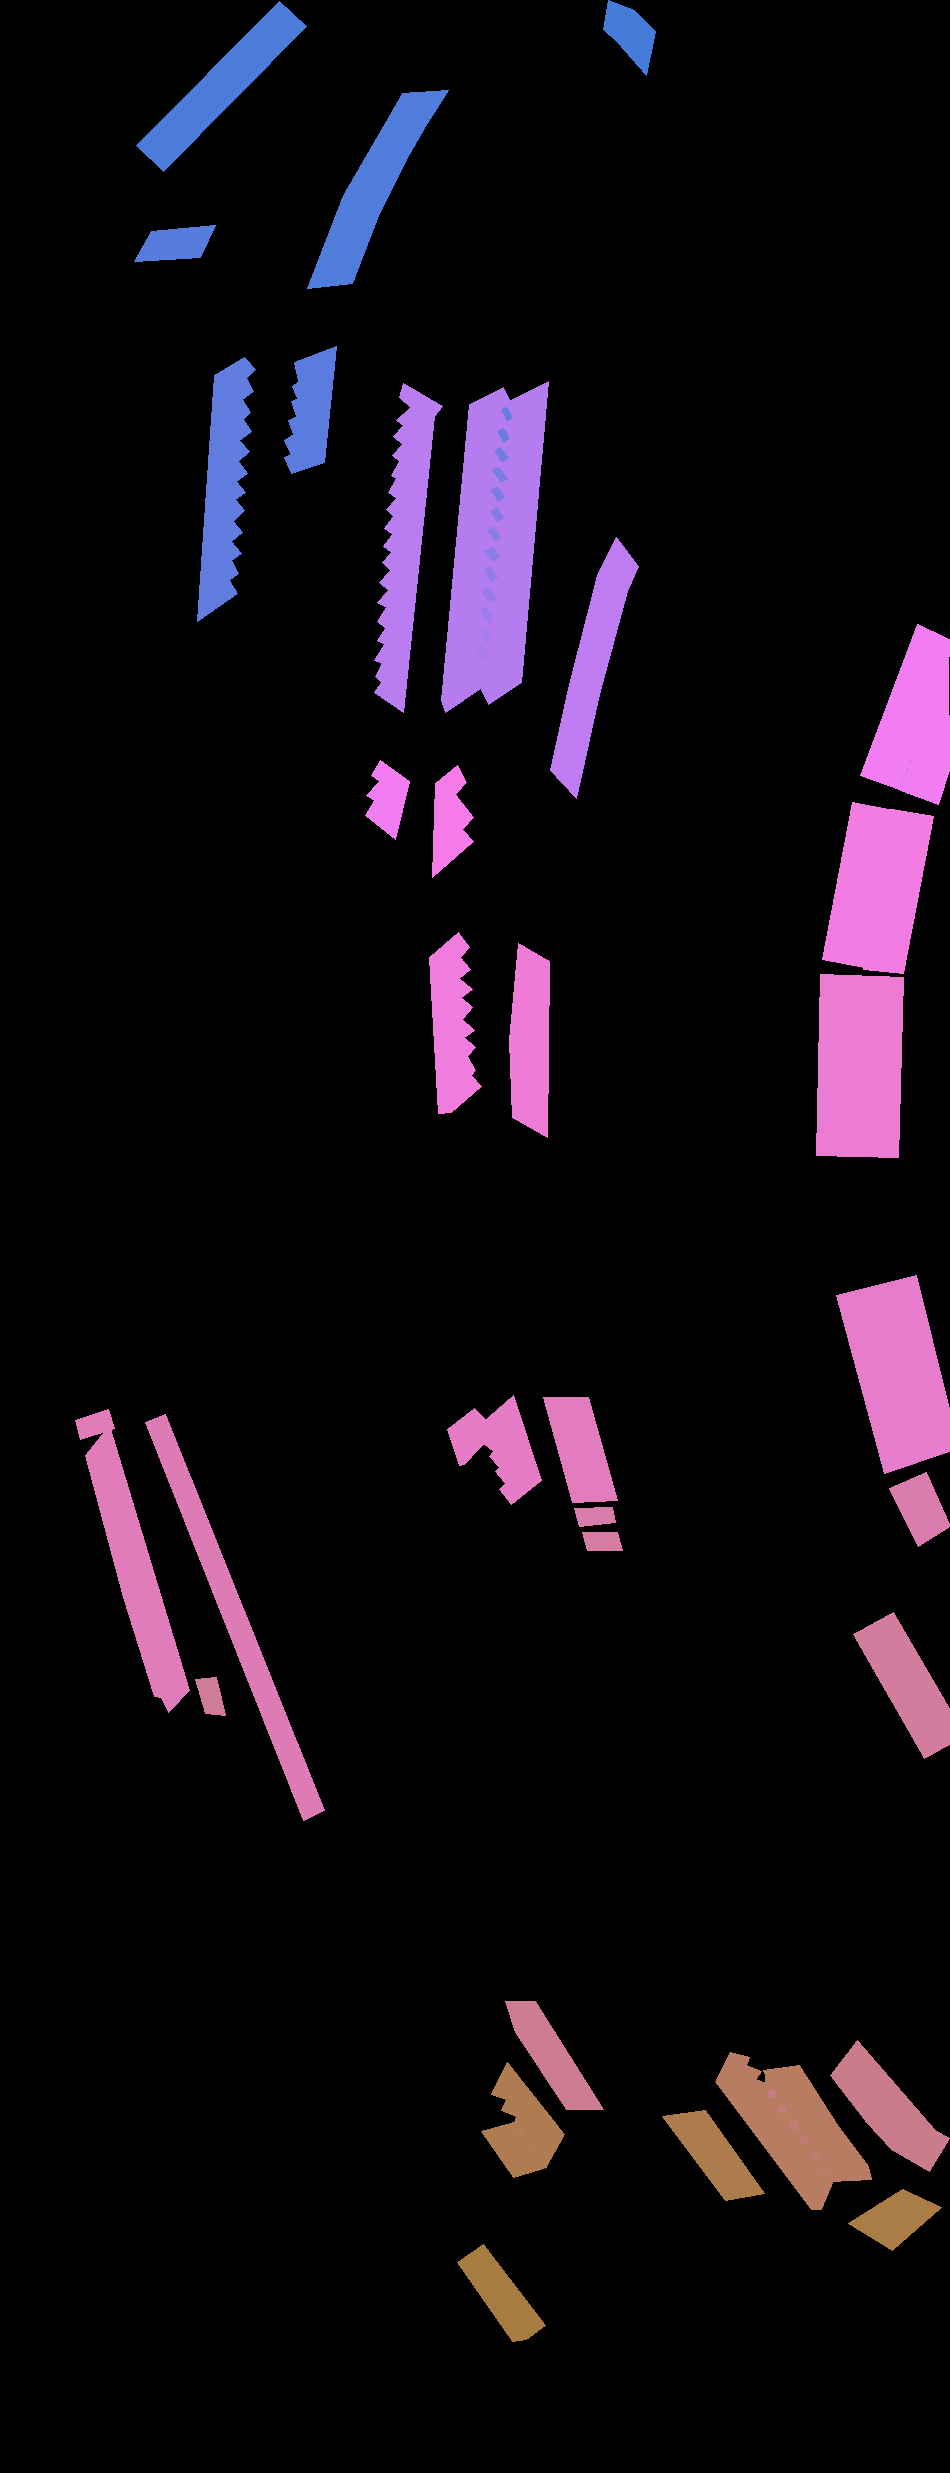parkingspot: (145, 1413, 324, 1820), (85, 1424, 189, 1711), (136, 2, 306, 170), (308, 90, 448, 289), (440, 386, 511, 711), (551, 536, 638, 798), (374, 382, 442, 711), (836, 1274, 948, 1473), (480, 382, 548, 703), (715, 2050, 833, 2210), (816, 975, 903, 1158), (830, 2039, 948, 2172), (197, 356, 256, 621), (860, 625, 950, 789), (854, 1612, 948, 1759), (764, 2065, 871, 2181), (822, 803, 893, 967), (863, 809, 933, 973), (505, 2000, 603, 2109), (429, 931, 481, 1113), (661, 2110, 764, 2200), (458, 2243, 544, 2341), (543, 1396, 617, 1501), (491, 2061, 563, 2169), (510, 942, 549, 1137), (900, 658, 948, 804), (480, 1394, 541, 1505), (284, 345, 336, 473), (847, 2188, 941, 2251), (432, 763, 473, 877), (888, 1471, 950, 1546), (603, 0, 655, 76), (365, 759, 409, 839), (481, 2120, 543, 2176), (134, 224, 215, 260), (447, 1407, 491, 1465), (76, 1408, 114, 1438), (196, 1677, 226, 1714), (574, 1506, 615, 1527), (582, 1531, 622, 1550)
